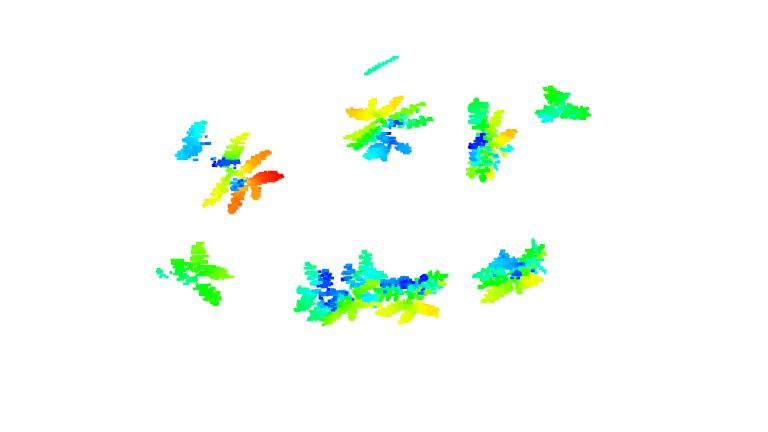chickpea: (173, 119, 286, 216), (341, 93, 437, 163), (296, 249, 375, 329), (157, 240, 236, 308), (473, 239, 552, 306), (462, 94, 518, 184), (373, 266, 453, 324), (530, 82, 593, 128)
